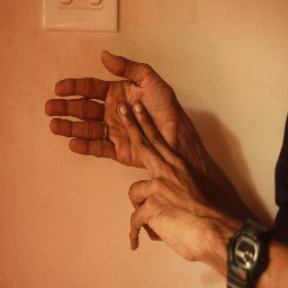N: (42, 47, 202, 247)
